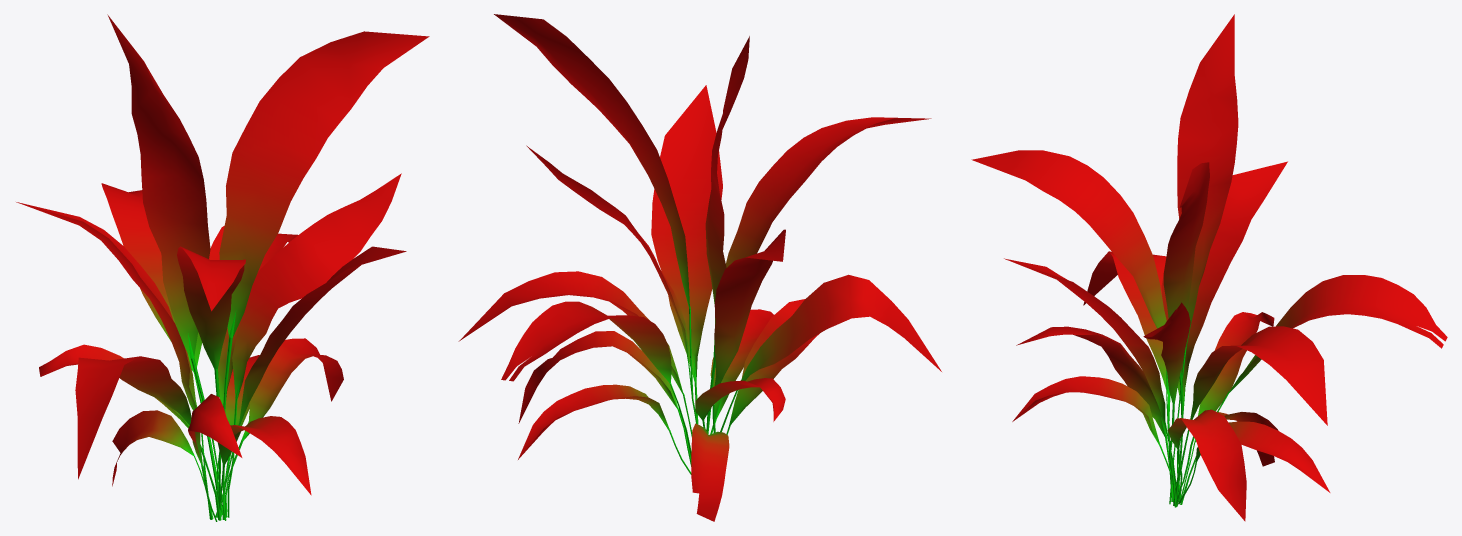
The model's file is Cast - Iron Plant_LOD0_Var3_shdmr.fbx.
3 views of the same model, side by side, from view 1: azimuth 30°, elevation 25°; view 2: azimuth 150°, elevation 25°; view 3: azimuth 270°, elevation 25° (orthographic). The views are drawn at different scales.
Visible parts, largest first — view 1: _9846_Var3_LOD0; view 2: _9846_Var3_LOD0; view 3: _9846_Var3_LOD0.
Boxes of the visible parts, <box> form: _9846_Var3_LOD0: <box>16,14,429,521</box>; _9846_Var3_LOD0: <box>458,14,941,521</box>; _9846_Var3_LOD0: <box>971,14,1447,521</box>.
Bounding box in the file's own units: 73.33 × 86.85 × 82.48.
